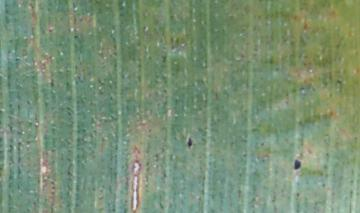tarspot: (293, 157, 301, 173), (186, 136, 194, 149), (334, 78, 344, 85), (48, 77, 55, 86), (46, 27, 54, 33), (72, 34, 79, 40)
